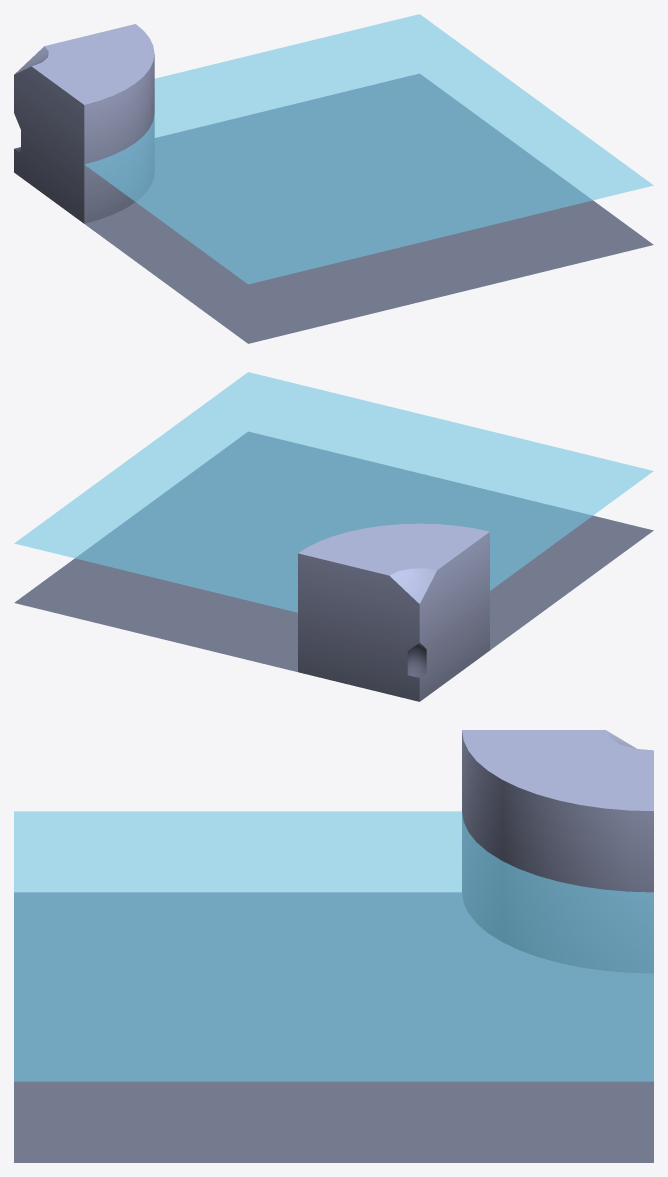
Rendered from fountain-corner-inner.glb.
The picture shows the model from 3 angles, top to bottom: view 1: azimuth 30°, elevation 25°; view 2: azimuth 150°, elevation 25°; view 3: azimuth 270°, elevation 25°; orthographic projection. The views are drawn at different scales.
Parts seen in each view (by area): view 1: fountain-corner-inner, (%ignore); view 2: fountain-corner-inner, (%ignore); view 3: fountain-corner-inner, (%ignore).
Boxes of the visible parts, x1,y1,x2,y2 form: fountain-corner-inner: (14,24,653,343); (%ignore): (84,14,653,284); fountain-corner-inner: (14,432,653,701); (%ignore): (14,372,653,612); fountain-corner-inner: (14,730,653,1162); (%ignore): (14,811,653,1081).
Bounding box in the file's own units: 1 × 0.28 × 1.
2 materials, 1 textured.
